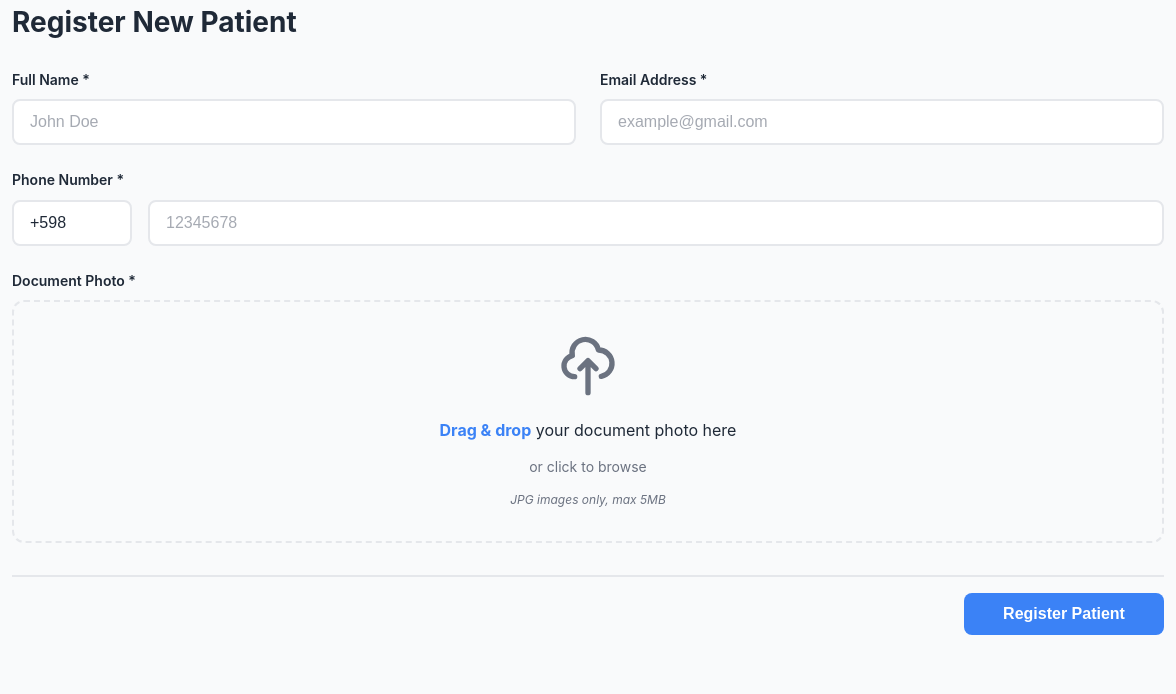
Test: PatientForm › validates full name with letters and spaces only
The width and height of the screenshot is (1176, 694).
Step 1. Type "John123" into the field labelled "Full Name *" → (294, 122), box [12, 99, 576, 145]
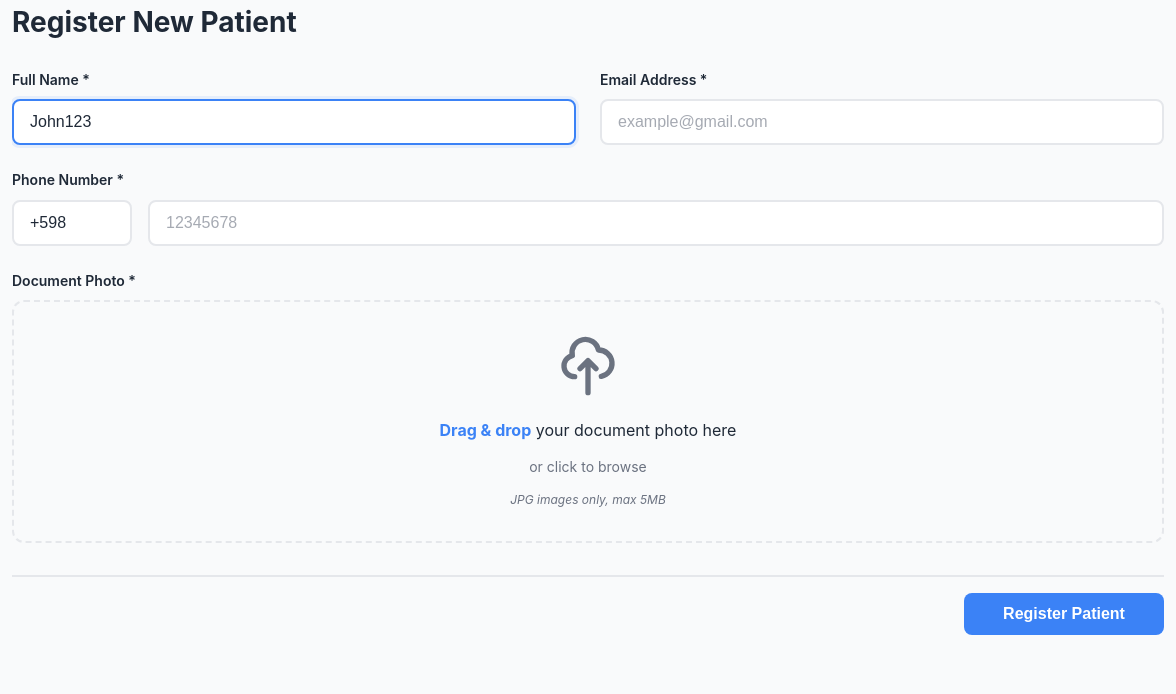
Step 2. Click the button "Register Patient" → click(1064, 614), box [964, 593, 1164, 635]
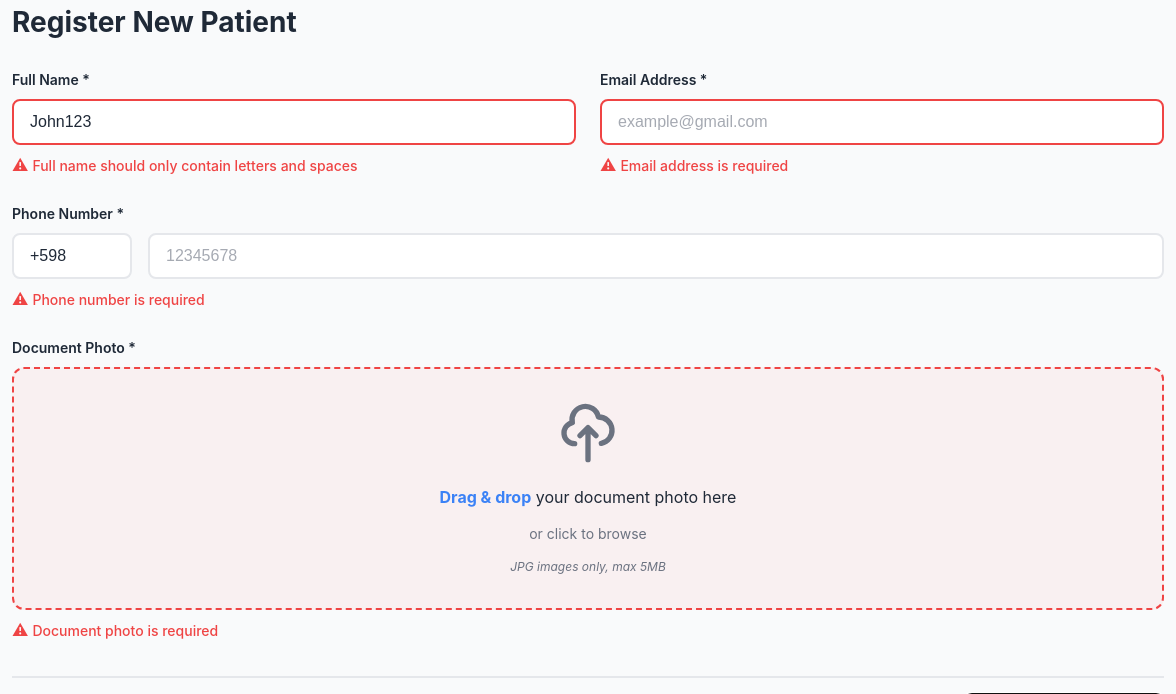
expect the text "Full name should only contain letters and spaces" is shown: met, box [32, 157, 358, 174]
